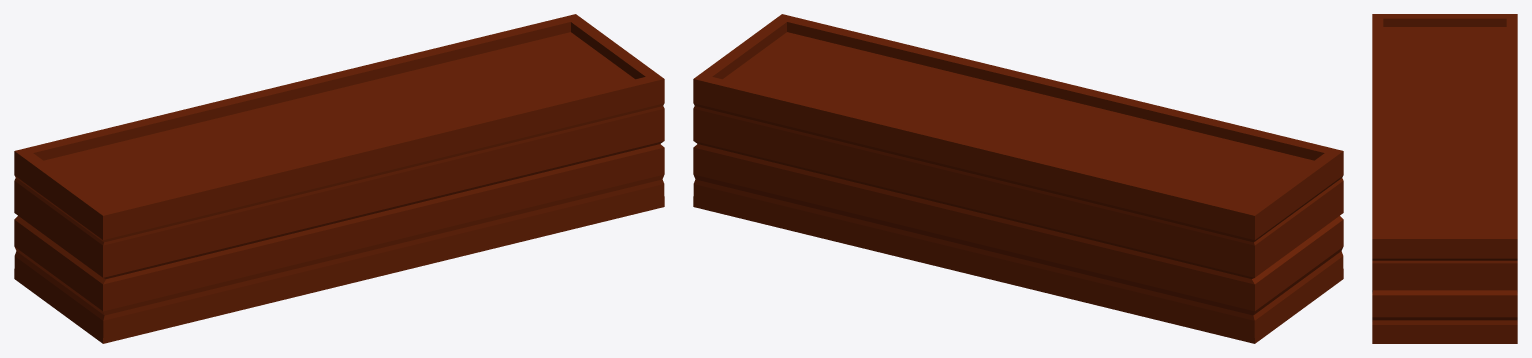
The model's file is planter2.fbx.
3 renders of one model, left to right at view 1: azimuth 30°, elevation 25°; view 2: azimuth 150°, elevation 25°; view 3: azimuth 270°, elevation 25°, orthographic. The views are drawn at different scales.
Visible parts, largest first — view 1: Cube.231; view 2: Cube.231; view 3: Cube.231.
Boxes of the visible parts, x1,y1,x2,y2 form: Cube.231: (14, 14, 664, 343); Cube.231: (693, 14, 1343, 343); Cube.231: (1372, 14, 1517, 343).
Bounding box in the file's own units: 524 × 114 × 143.
